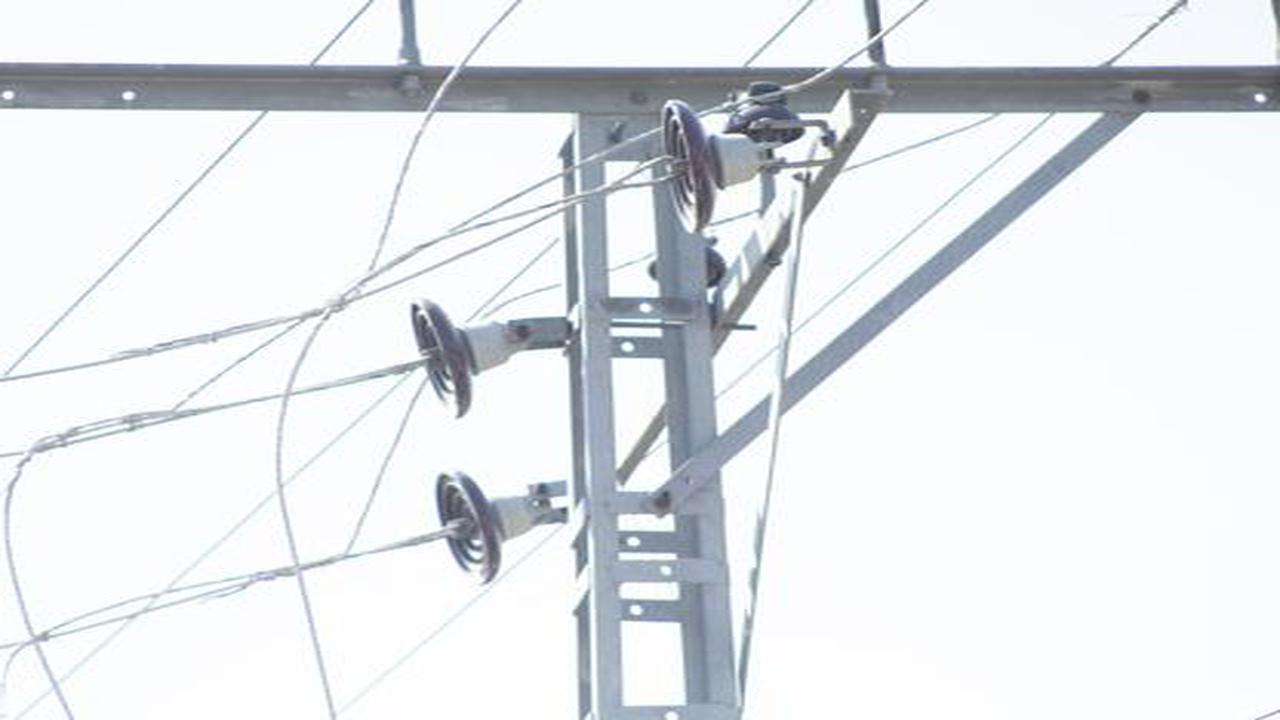insulator_disc: (408, 293, 514, 423), (431, 467, 536, 588), (661, 100, 738, 225)
insulator_pin: (725, 88, 808, 143)
